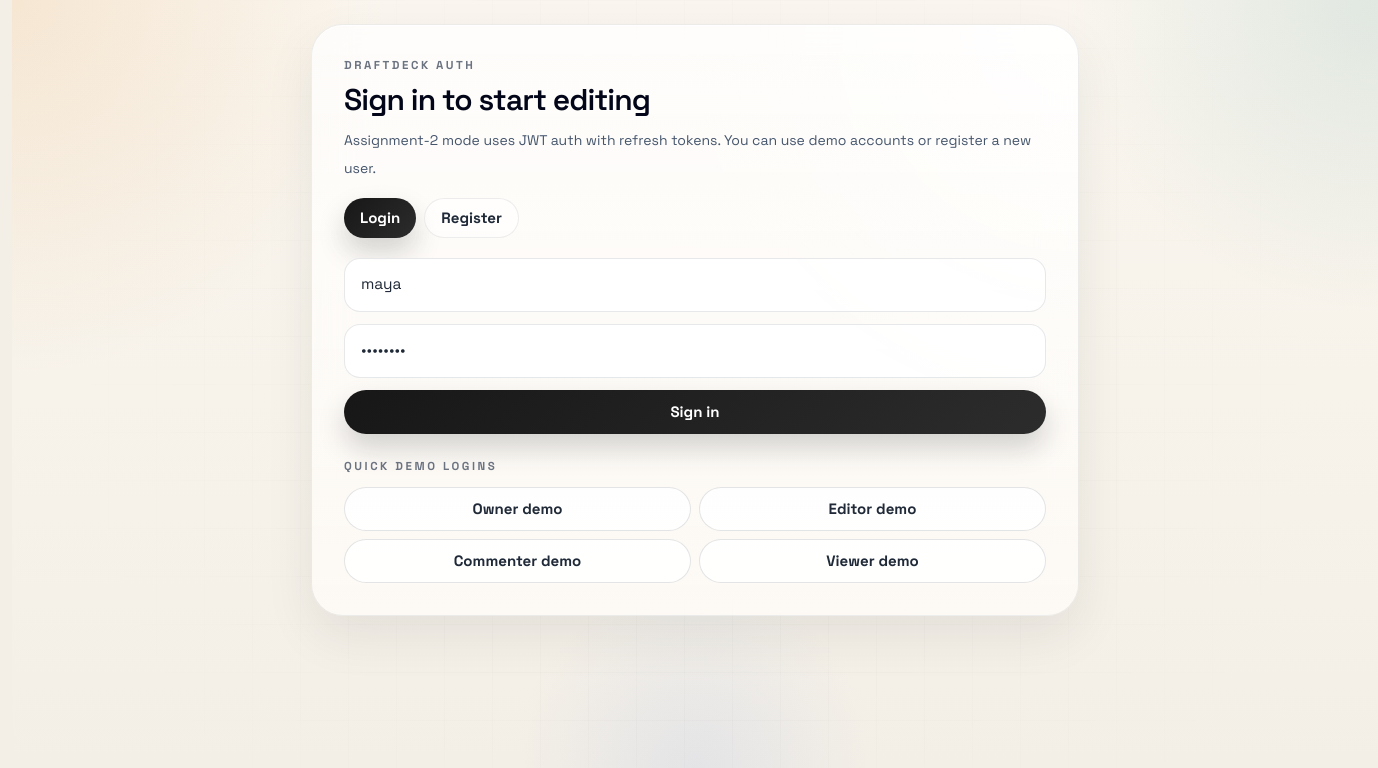
Scenario: AuthShell › completes login flow and renders authenticated shell
Expected: the heading "Sign in to start editing" is shown, [344,80,650,119]
Click the button "Sign in". click: (695, 412)
box: [344,390,1046,434]
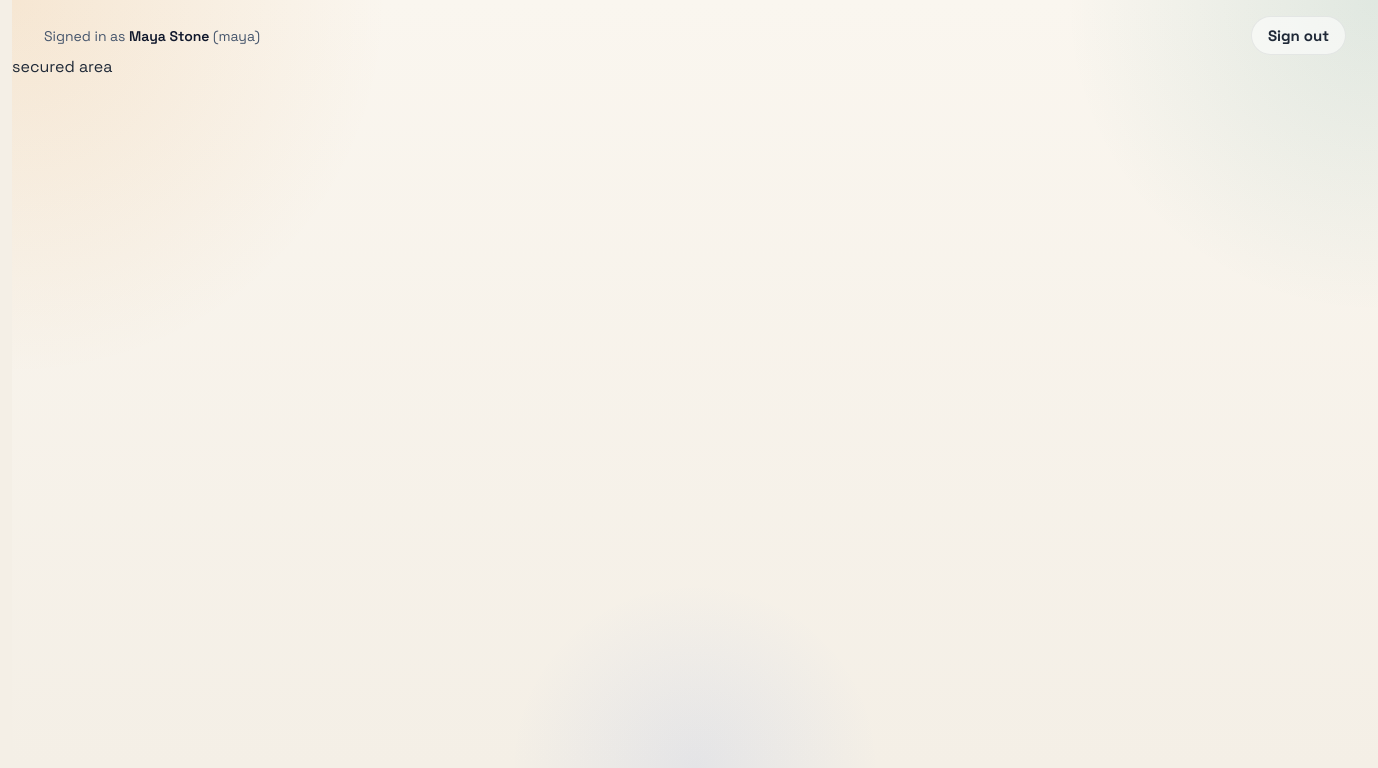
Now the text "Signed in as Maya Stone (maya)" is shown, box [44,26,260,46]
Now the text "secured area" is shown, box [12,56,112,78]
